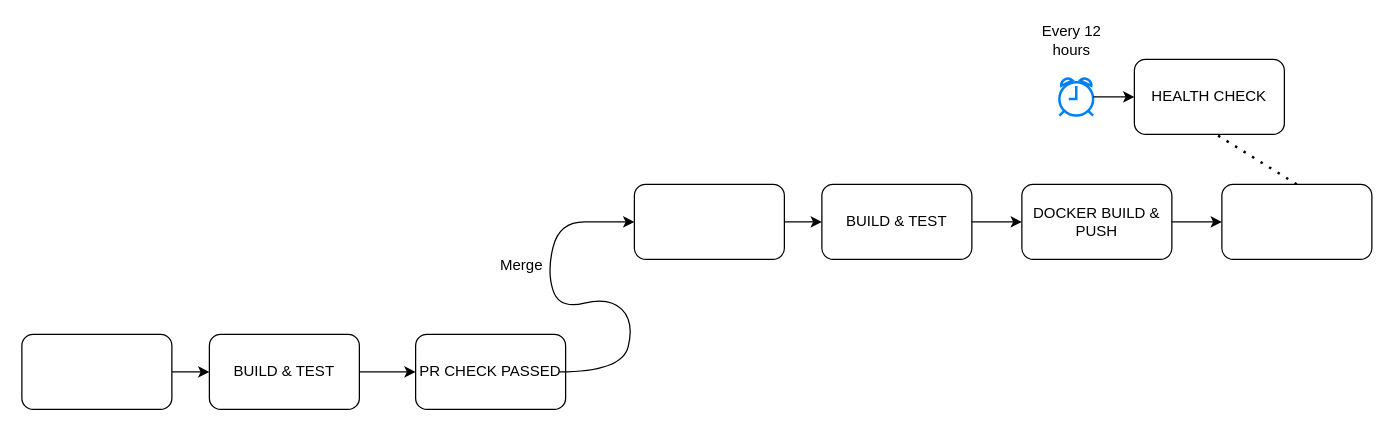
Image size: 1394x431. Some labels were removed from this diagram. The shapes that lost their labels are listed below. From the top down, each one's box as (x1, y1, x2, y2) in pixels, then its label:
(633, 183, 784, 259): MAIN
(1221, 183, 1372, 259): DEPLOY
(21, 333, 172, 409): PR OPENED
